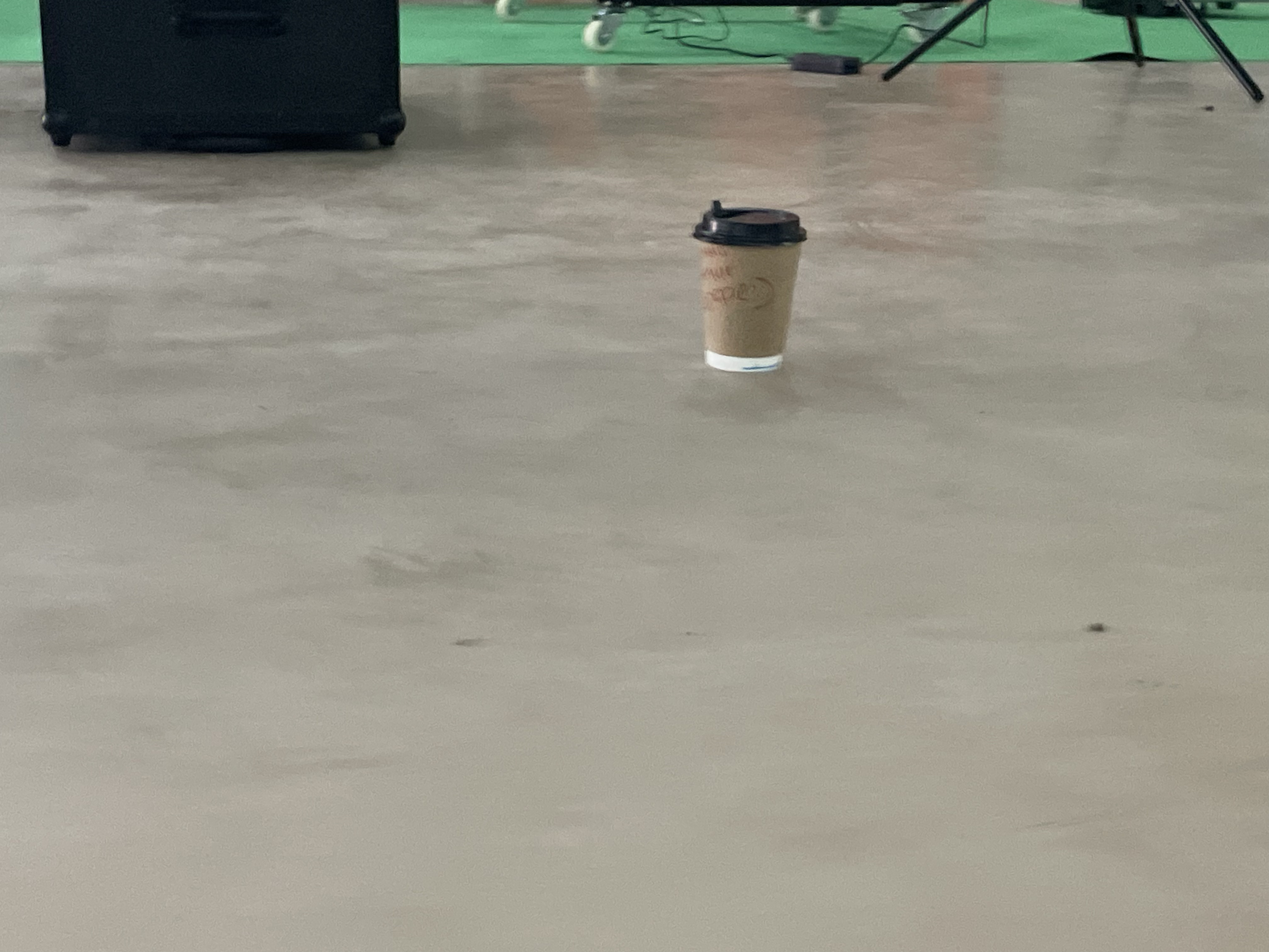cup: (692, 200, 807, 373)
